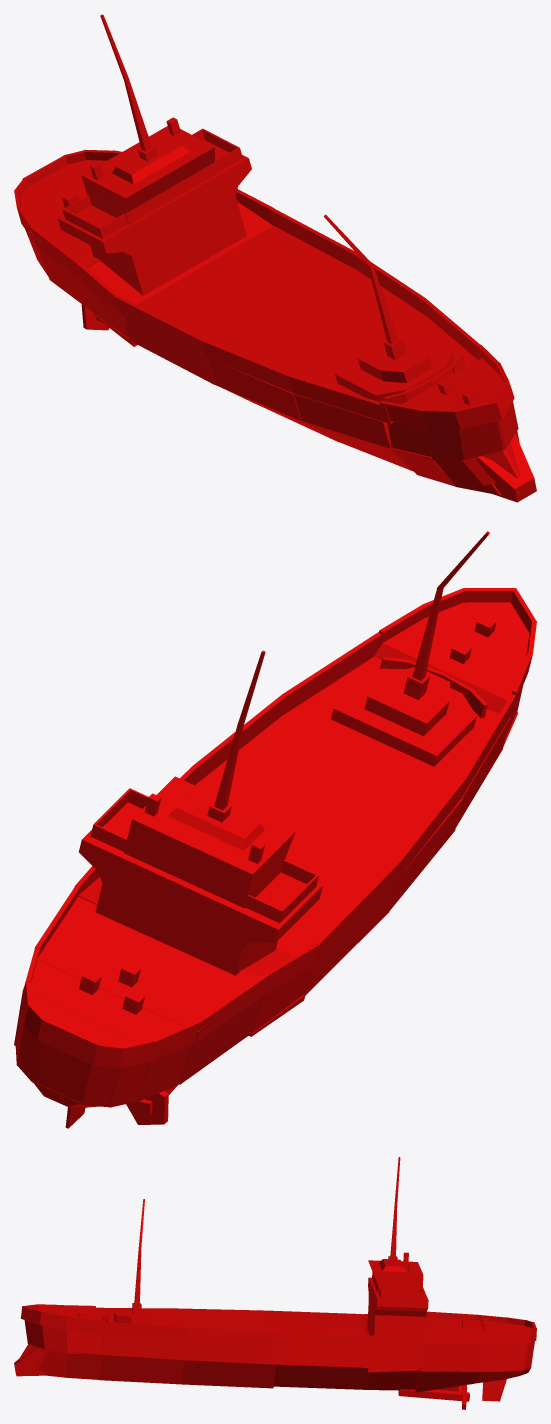
The model's file is SM_Prop_Crashed_Ship_01_Collision.fbx.
3 renders of one model, top to bottom at view 1: azimuth 30°, elevation 25°; view 2: azimuth 150°, elevation 25°; view 3: azimuth 270°, elevation 25°, orthographic. The views are drawn at different scales.
Parts seen in each view (by area): view 1: SM_Prop_Crashed_Ship_01_Collision; view 2: SM_Prop_Crashed_Ship_01_Collision; view 3: SM_Prop_Crashed_Ship_01_Collision.
Boxes of the visible parts, bbox=[...] form: SM_Prop_Crashed_Ship_01_Collision: bbox=[14, 14, 536, 502]; SM_Prop_Crashed_Ship_01_Collision: bbox=[14, 531, 536, 1128]; SM_Prop_Crashed_Ship_01_Collision: bbox=[14, 1157, 536, 1409].
Size of the model in its own units: 2019 by 3574 by 7433.
